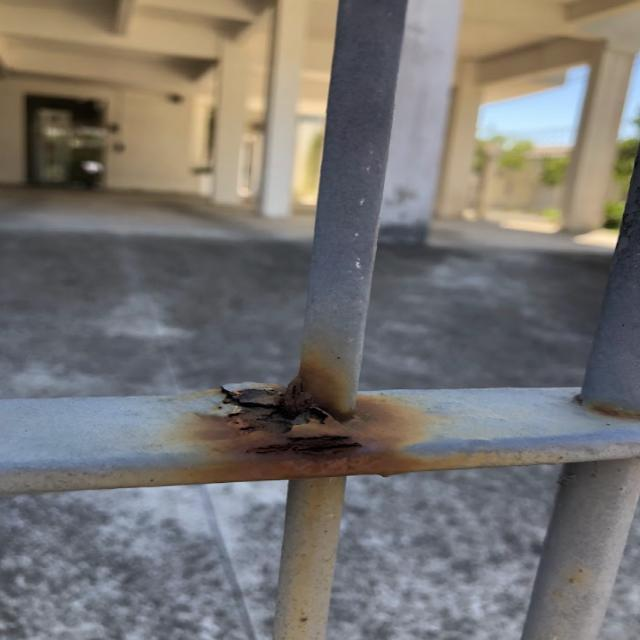Corrosion: (206, 345, 406, 485)
